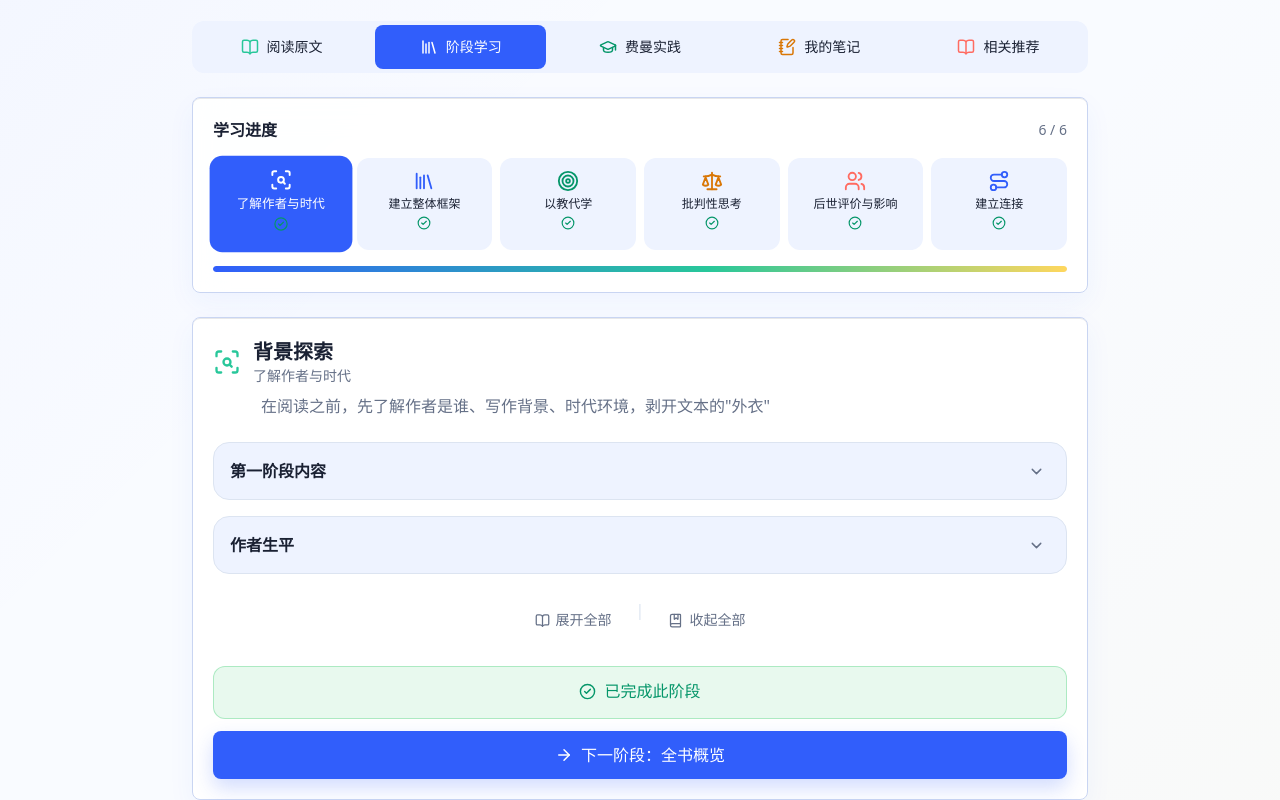
Scenario: ReadingView navigation position › lets sample users continue to the next phase and moves to its content top
This screenshot has width=1280, height=800.
(page scrolled)
What coordinates should you click on to do the following:
click the button "下一阶段：全书概览"
I would click on:
 (640, 754)
Its box is [213,730,1067,778].
(page scrolled)
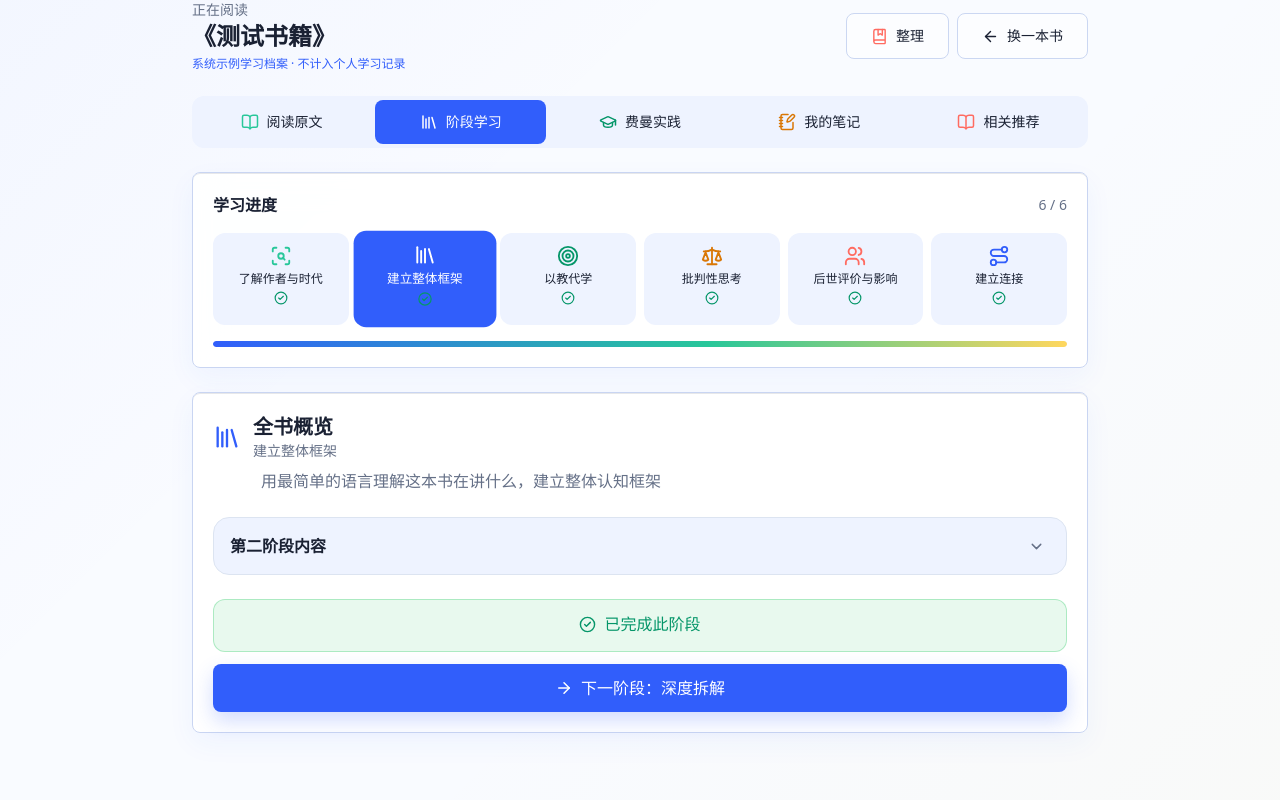
expect the heading "全书概览" is shown: met, box [253,413,337,441]
